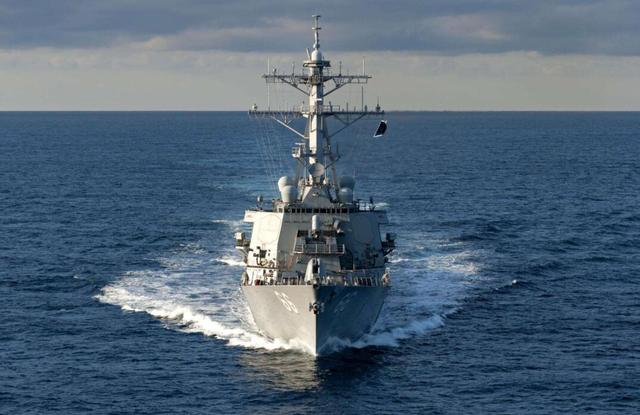warship: (234, 13, 398, 356)
